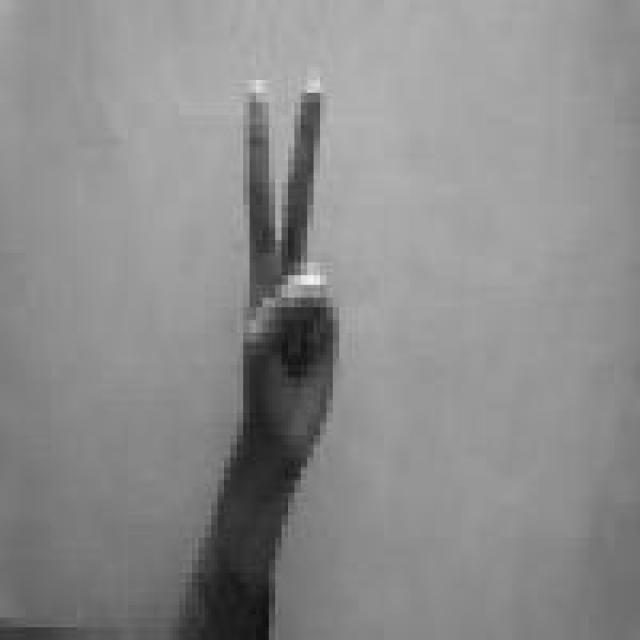V: (229, 72, 344, 469)
